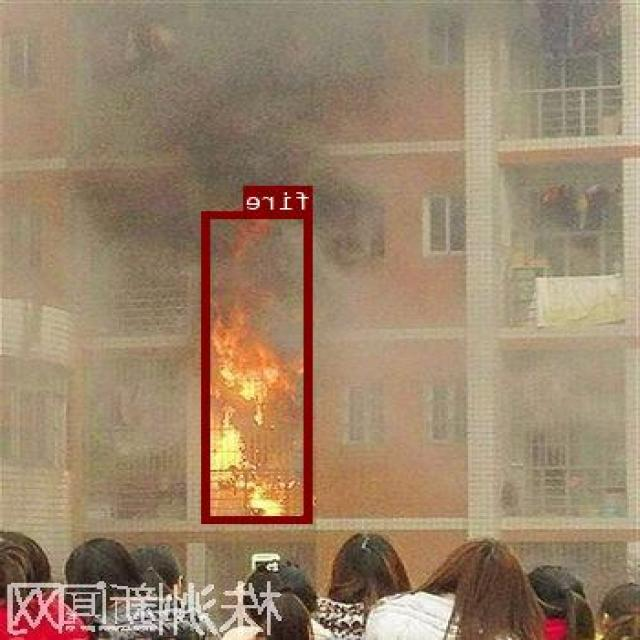fire: (204, 210, 314, 521)
